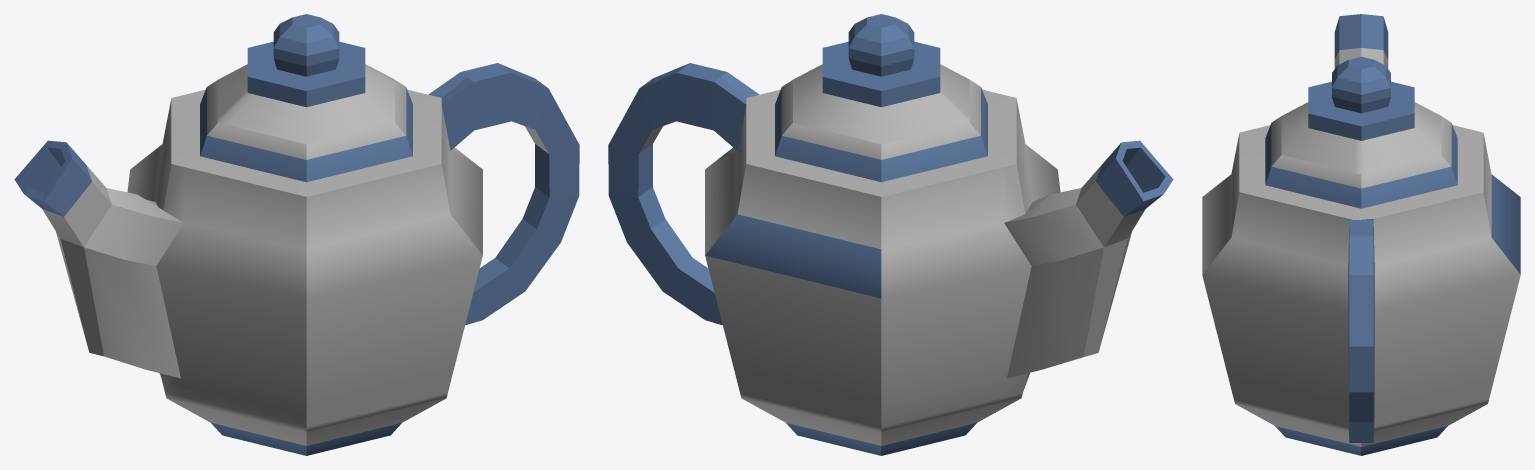
File: TeaPot0.fbx
3 views of the same model, side by side, from view 1: azimuth 30°, elevation 25°; view 2: azimuth 150°, elevation 25°; view 3: azimuth 270°, elevation 25° (orthographic). The views are drawn at different scales.
Visible parts, largest first — view 1: TeaPot0; view 2: TeaPot0; view 3: TeaPot0.
Part boxes in pixels (x1,y1,x2,y2): TeaPot0: [14, 14, 579, 455]; TeaPot0: [608, 14, 1173, 455]; TeaPot0: [1202, 14, 1520, 455].
Bounding box in the file's own units: 3.93 × 2.69 × 2.19.
